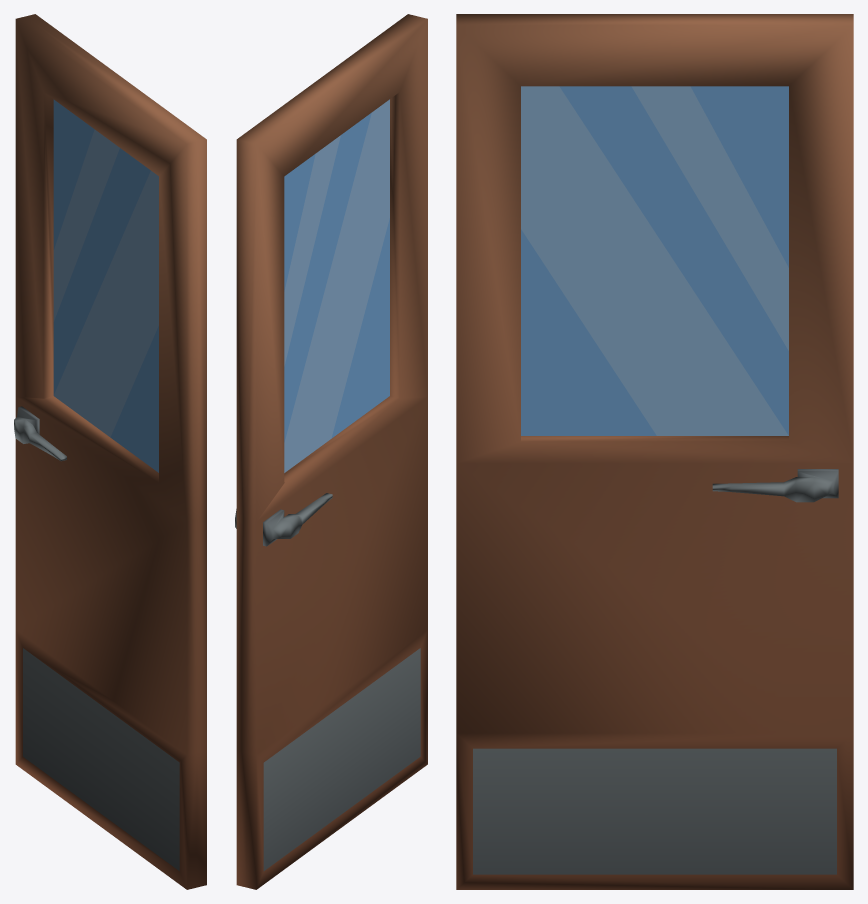
Rendered from SchoolPack2023Door1.fbx.
3 views of the same model, side by side, from view 1: azimuth 30°, elevation 25°; view 2: azimuth 150°, elevation 25°; view 3: azimuth 270°, elevation 25° (orthographic). The views are drawn at different scales.
Parts seen in each view (by area): view 1: Plane.005; view 2: Plane.005; view 3: Plane.005.
Part boxes in pixels (x1,y1,x2,y2): Plane.005: (14, 14, 206, 889); Plane.005: (235, 14, 427, 889); Plane.005: (456, 14, 853, 889).
Size of the model in its own units: 27.32 by 360 by 150.
